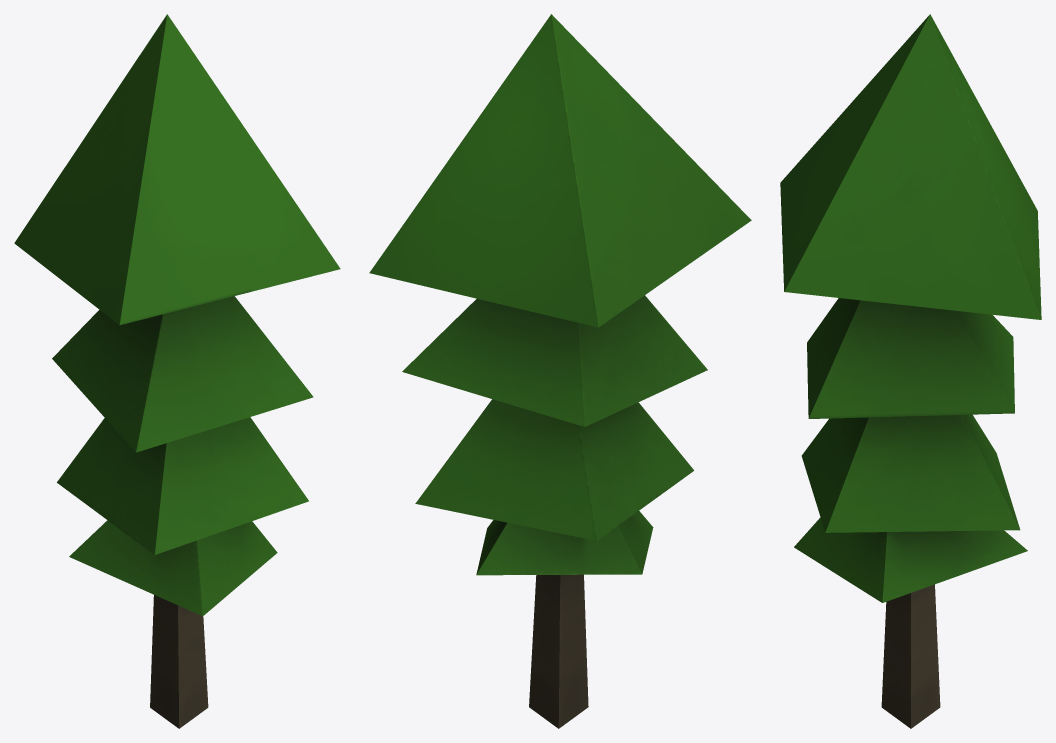
File: Bush_tree_03.FBX
3 renders of one model, left to right at view 1: azimuth 30°, elevation 25°; view 2: azimuth 150°, elevation 25°; view 3: azimuth 270°, elevation 25°, orthographic.
Visible parts, largest first — view 1: Bush_tree_03; view 2: Bush_tree_03; view 3: Bush_tree_03.
Boxes of the visible parts, bbox=[...] form: Bush_tree_03: bbox=[14, 14, 340, 728]; Bush_tree_03: bbox=[369, 14, 751, 728]; Bush_tree_03: bbox=[780, 14, 1041, 728].
Bounding box in the file's own units: 19.64 × 17.98 × 53.1.
